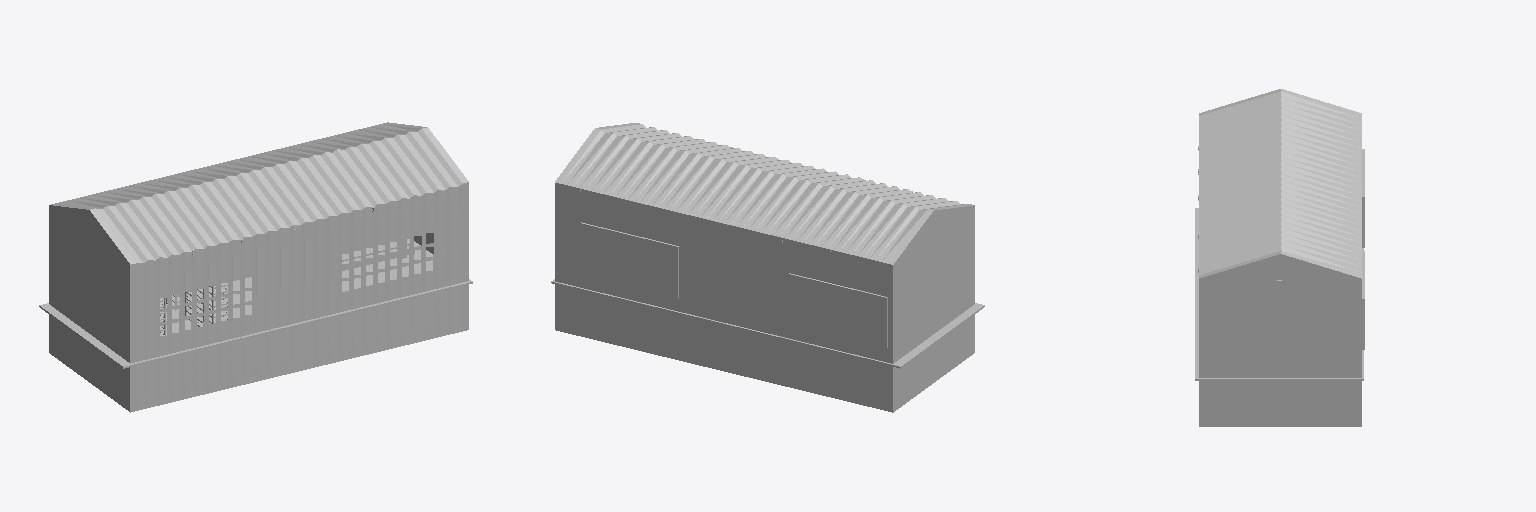
The model's file is Werehouse002.obj.
The picture shows the model from 3 angles: view 1: azimuth 30°, elevation 25°; view 2: azimuth 150°, elevation 25°; view 3: azimuth 270°, elevation 25°; orthographic projection.
Parts seen in each view (by area): view 1: WEREHOUSE, Floor, Shelf3; view 2: WEREHOUSE, WindowLight, WindowLight.001, Floor; view 3: WEREHOUSE, Floor.
Part boxes in pixels (bbox=[...]): WEREHOUSE: bbox=[49, 122, 468, 412]; Floor: bbox=[39, 239, 472, 368]; Shelf3: bbox=[185, 283, 227, 326]; WEREHOUSE: bbox=[555, 123, 974, 412]; WindowLight: bbox=[789, 273, 887, 348]; WindowLight.001: bbox=[580, 222, 678, 297]; Floor: bbox=[551, 279, 984, 368]; WEREHOUSE: bbox=[1199, 89, 1361, 426]; Floor: bbox=[1195, 208, 1363, 380].
Bounding box in the file's own units: 390 × 184 × 163.